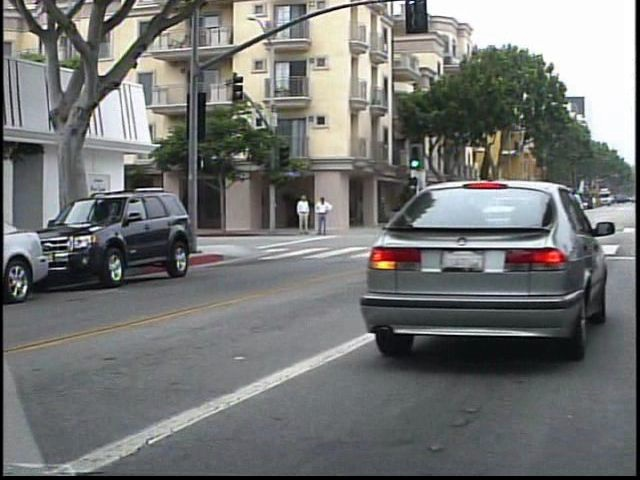person: (310, 193, 330, 239), (292, 192, 311, 237)
